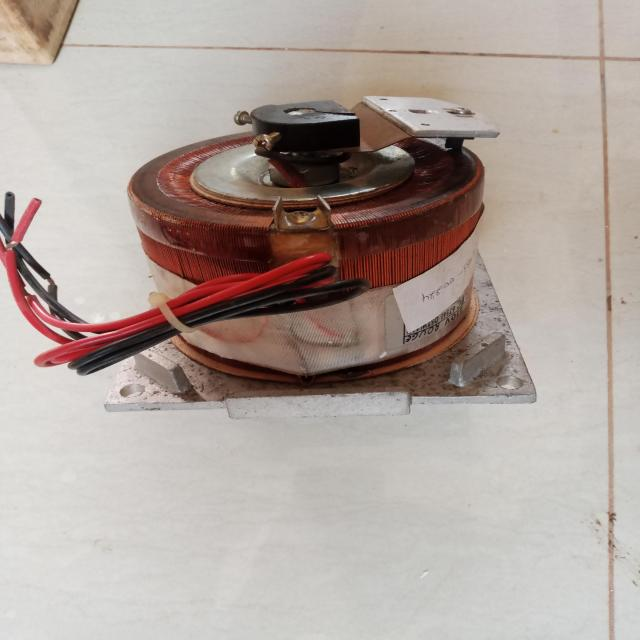AC Transformer: (109, 79, 522, 394)
